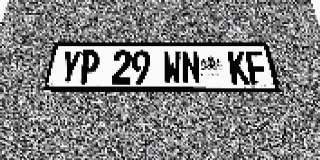2: (112, 50, 132, 84)
9: (131, 50, 150, 84)
F: (245, 51, 269, 84)
K: (227, 51, 250, 84)
N: (181, 51, 201, 84)
P: (77, 50, 100, 84)
W: (163, 51, 182, 84)
Y: (58, 50, 82, 84)
